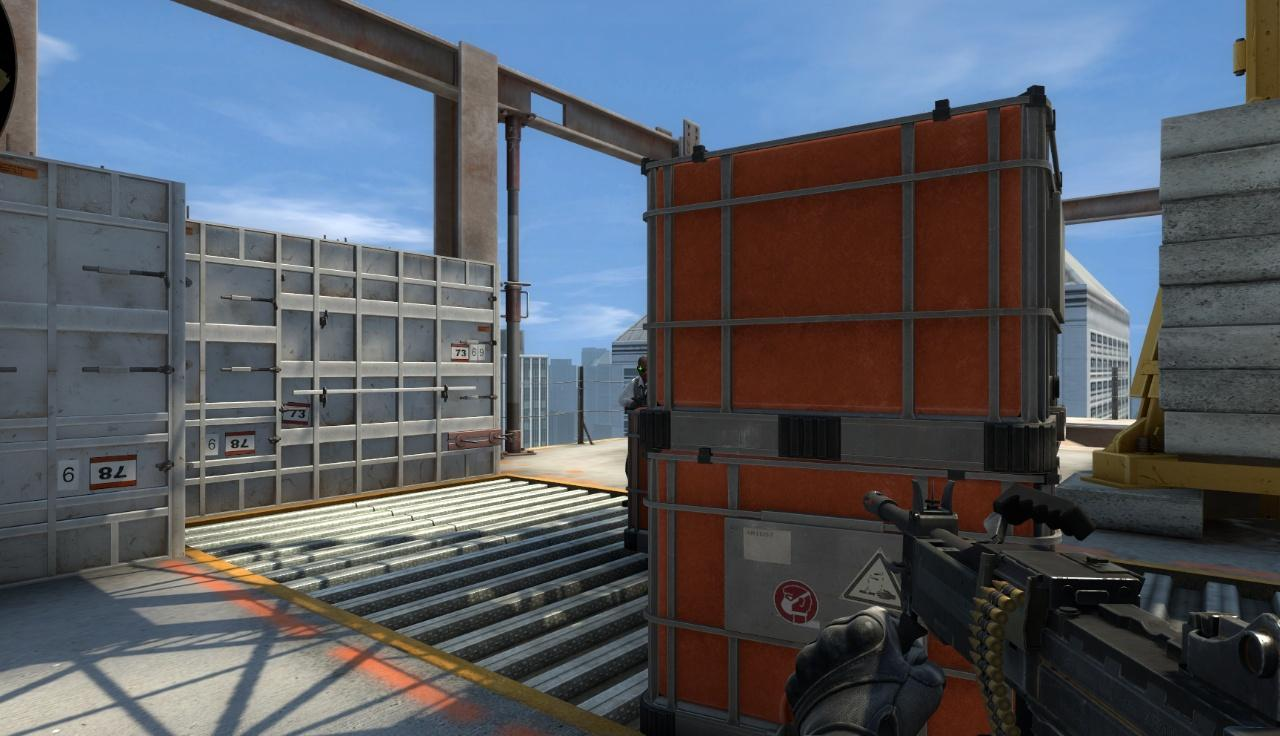rifle: (854, 472, 1280, 736)
tt: (622, 356, 649, 408)
